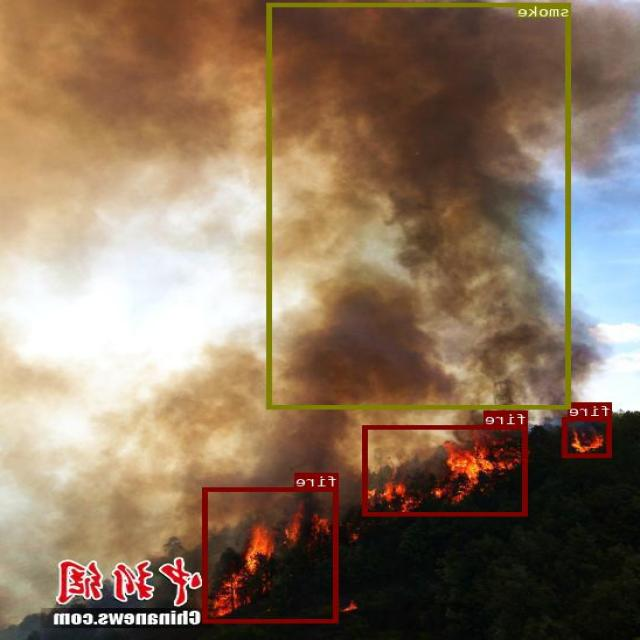fire: (204, 487, 340, 623), (364, 425, 528, 515), (564, 417, 613, 457)
smoke: (268, 2, 571, 409)
